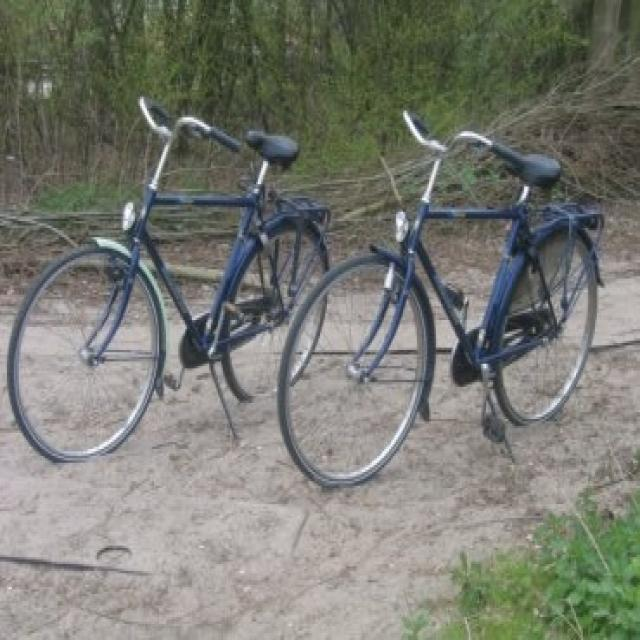bicycle: (273, 108, 604, 493), (6, 92, 330, 463)
